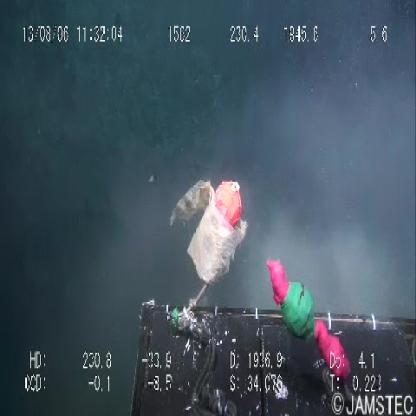Rov: (125, 257, 416, 415)
Rác: (162, 156, 253, 288)
